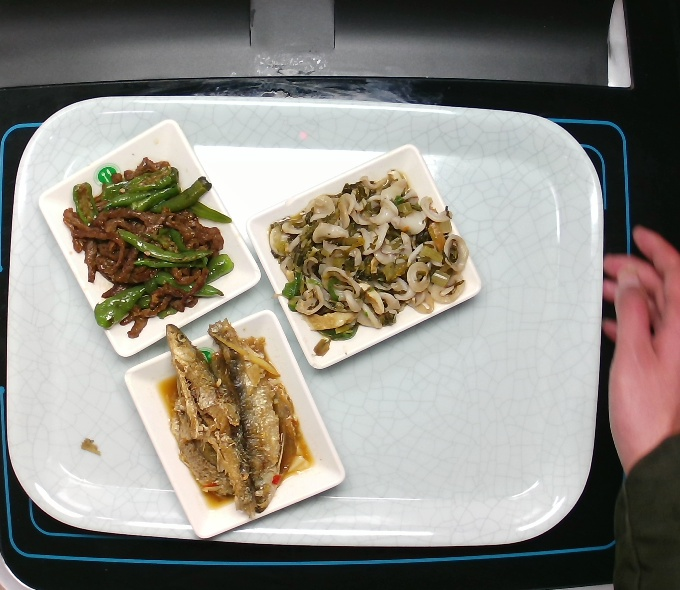wcq-QingJiaoNiuRou: (64, 147, 244, 341)
wcq-XiaoXiYu: (157, 314, 297, 512)
wcq-XueCaiYouYu: (268, 173, 474, 350)
